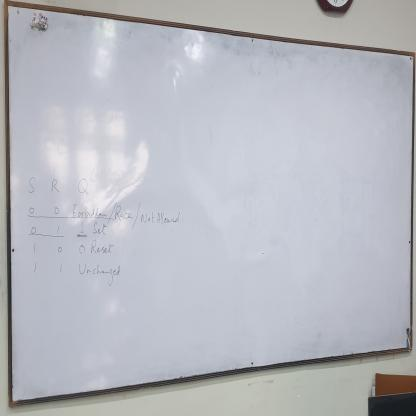Handwritten text: (27, 172, 92, 200), (76, 263, 124, 292), (70, 199, 110, 225), (141, 208, 182, 231), (89, 240, 116, 263), (116, 202, 134, 223), (92, 217, 110, 238)
Whiteboard: (4, 0, 416, 408)
